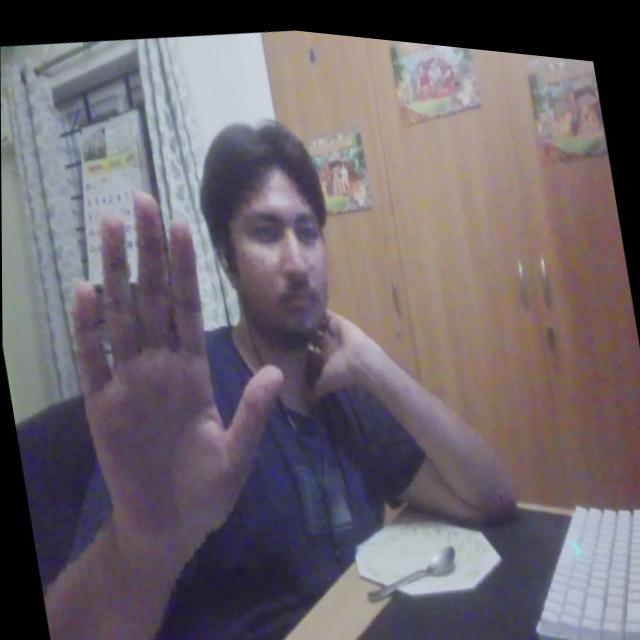hello: (42, 159, 313, 570)
